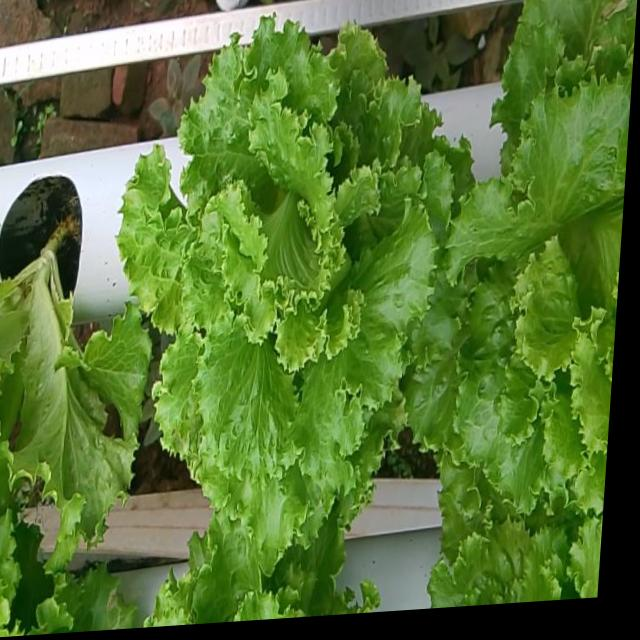Mature: (124, 2, 461, 538), (413, 54, 633, 501)
